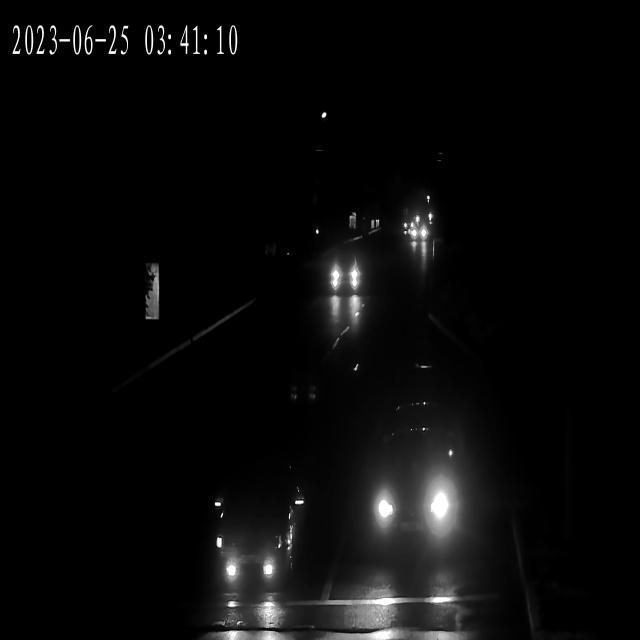Car: (364, 452, 460, 546), (215, 503, 301, 597), (327, 256, 365, 299), (408, 228, 429, 246), (402, 213, 416, 230)
